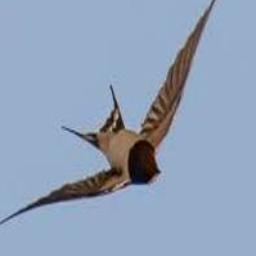Swallow: (0, 0, 232, 227)
